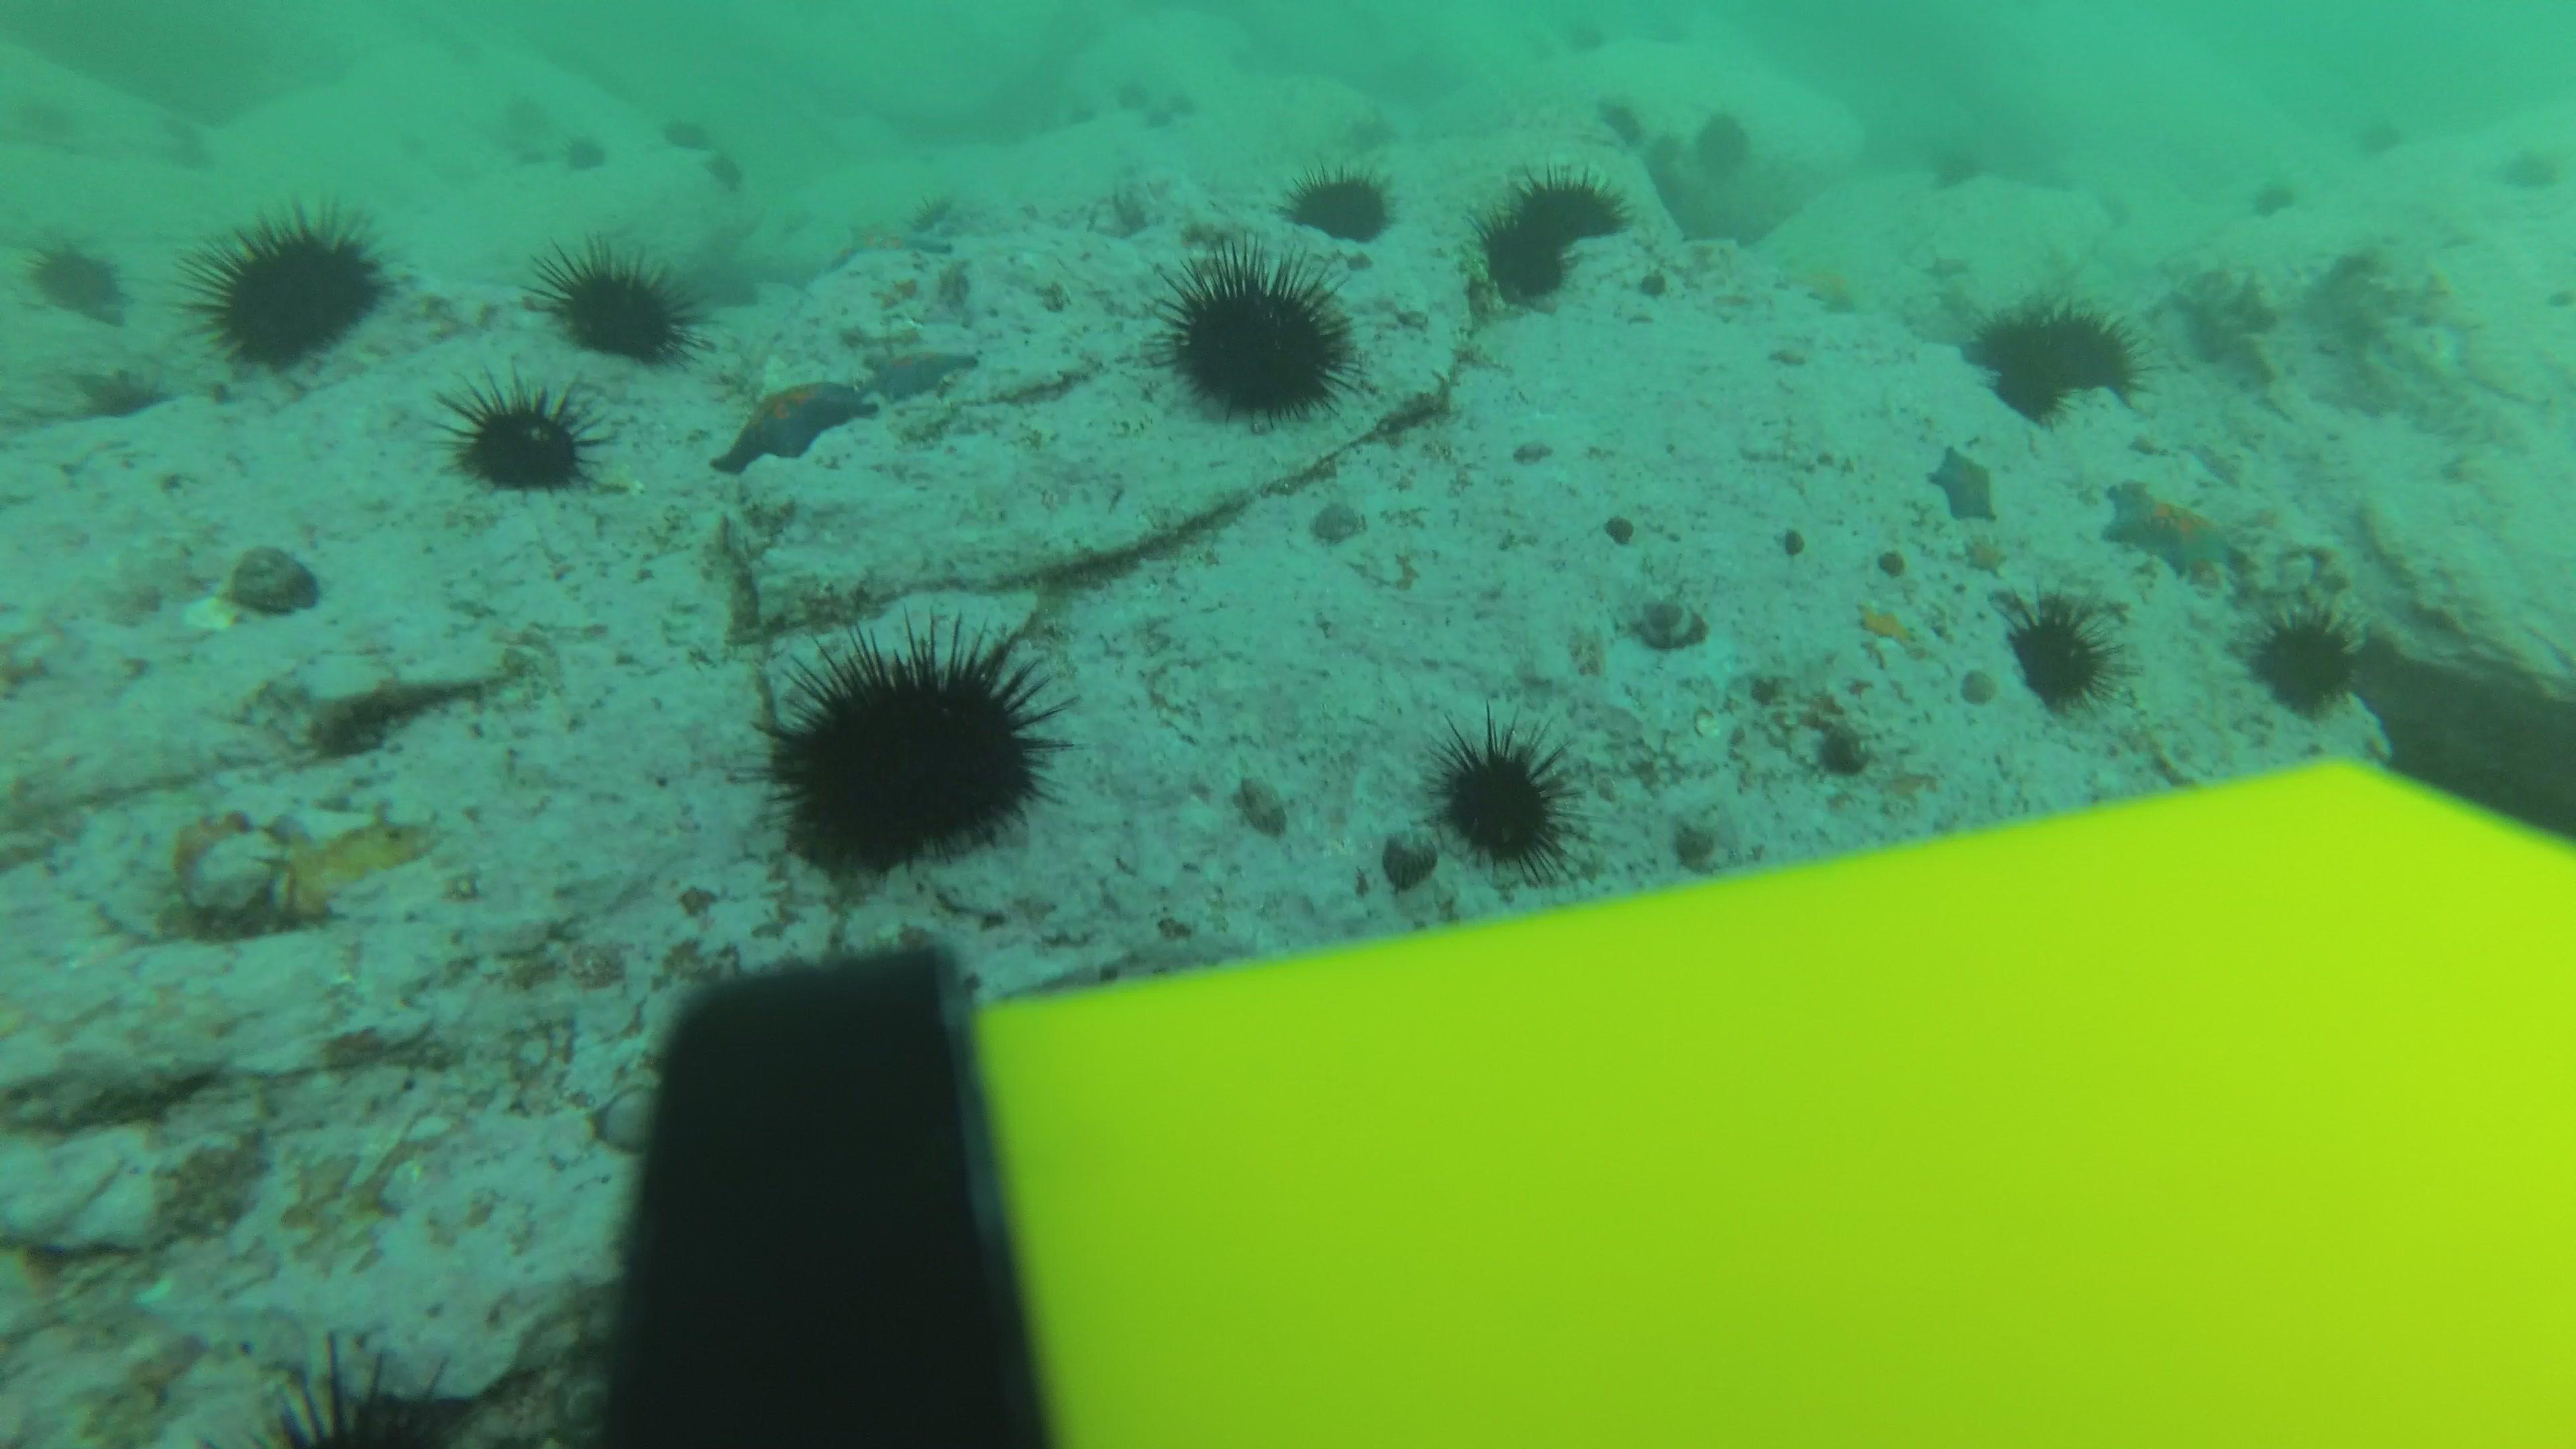urchin: (782, 630, 1053, 856), (196, 198, 386, 380), (1157, 249, 1353, 416), (533, 228, 704, 379), (1437, 711, 1582, 888), (441, 386, 596, 504), (1976, 308, 2143, 414), (2006, 582, 2116, 706), (2263, 598, 2357, 711), (23, 239, 131, 326), (1509, 161, 1640, 230), (1292, 150, 1394, 235), (1483, 234, 1568, 303)
